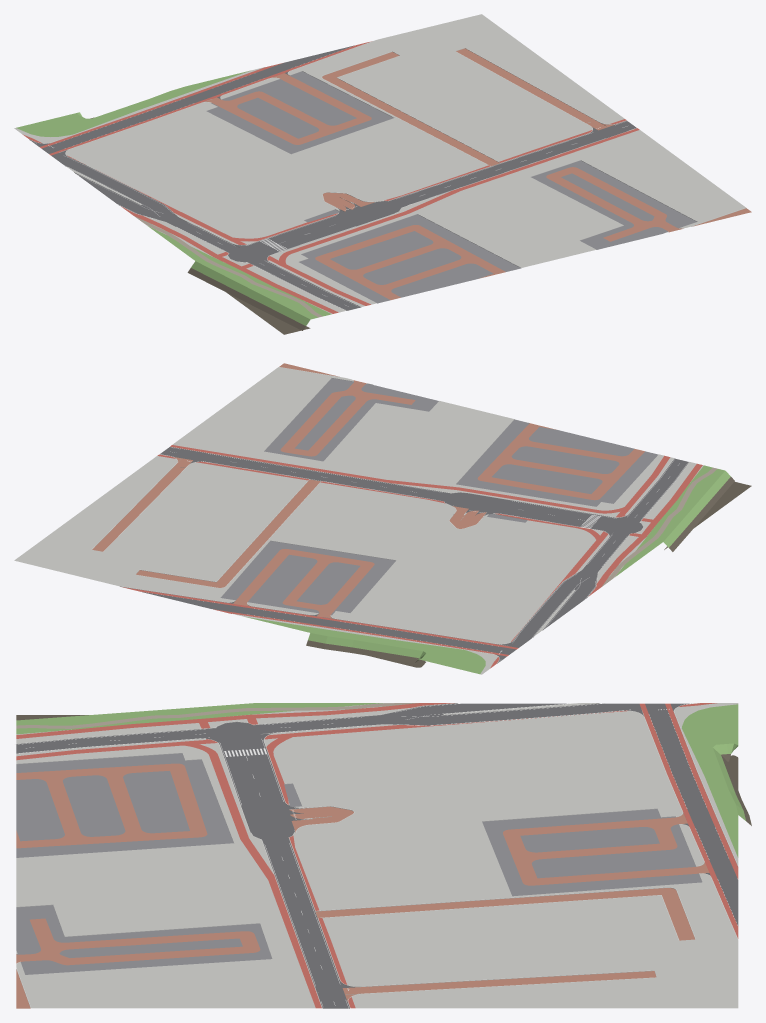
Rendered from ground_9_6.glb.
The picture shows the model from 3 angles, top to bottom: view 1: azimuth 30°, elevation 25°; view 2: azimuth 150°, elevation 25°; view 3: azimuth 270°, elevation 25°; orthographic projection. The views are drawn at different scales.
Visible parts, largest first — view 1: ground_9_6; view 2: ground_9_6; view 3: ground_9_6.
Part boxes in pixels (x1,y1,x2,y2): ground_9_6: (14,14,751,334); ground_9_6: (14,363,751,674); ground_9_6: (15,703,751,1008).
Bounding box in the file's own units: 204 × 3.62 × 204.
